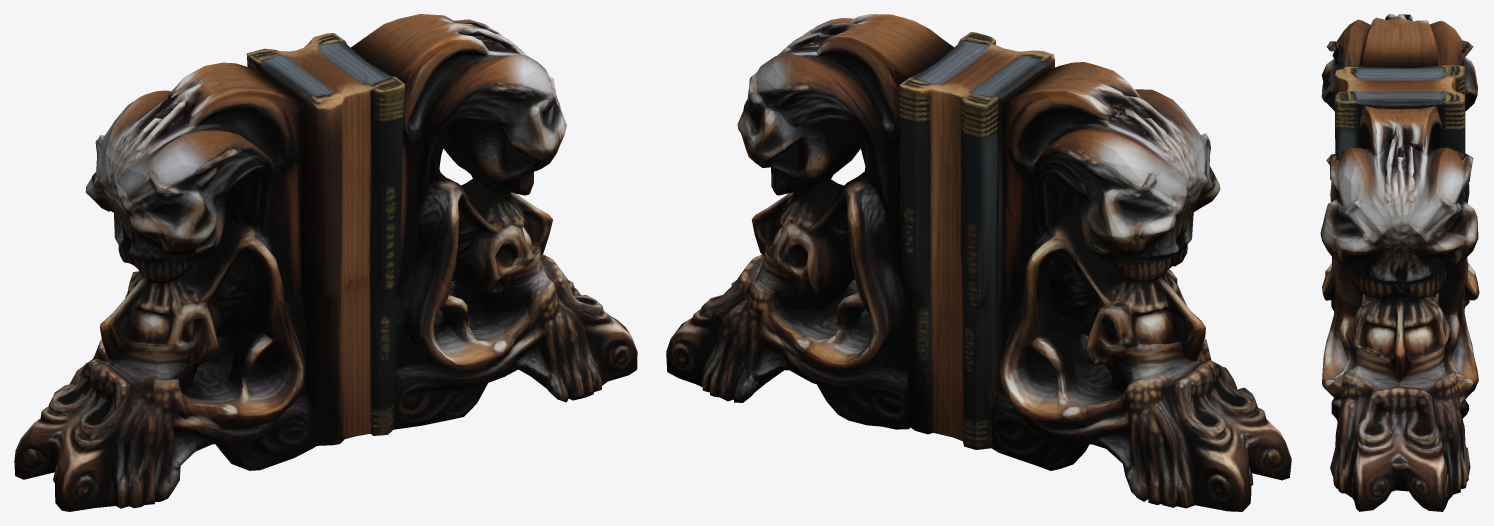
File: wooden-bookends-horror.jpeg.glb
3 renders of one model, left to right at view 1: azimuth 30°, elevation 25°; view 2: azimuth 150°, elevation 25°; view 3: azimuth 270°, elevation 25°, orthographic. The views are drawn at different scales.
Parts seen in each view (by area): view 1: world; view 2: world; view 3: world.
Boxes of the visible parts, bbox=[...] form: world: bbox=[14, 14, 637, 511]; world: bbox=[666, 14, 1291, 511]; world: bbox=[1320, 14, 1479, 511].
Size of the model in its own units: 0.9998 by 0.6202 by 0.276.
Materials: 1 (1 with a texture image).
